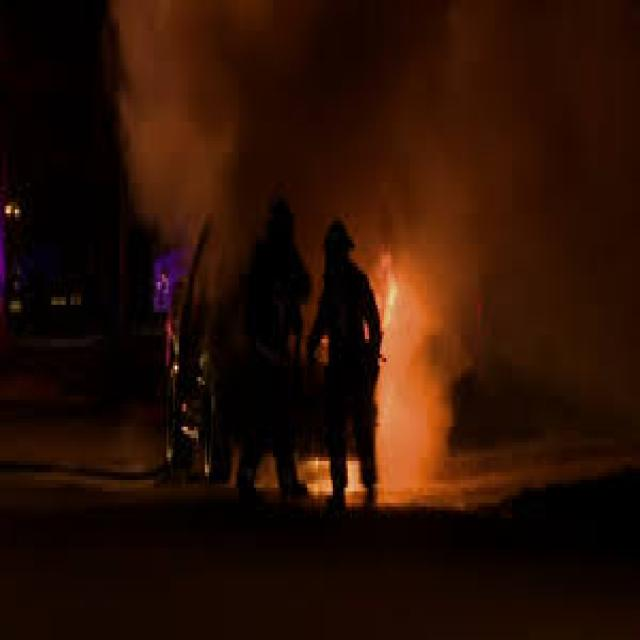Fire: (319, 244, 422, 526)
Smoke: (87, 0, 527, 248)
